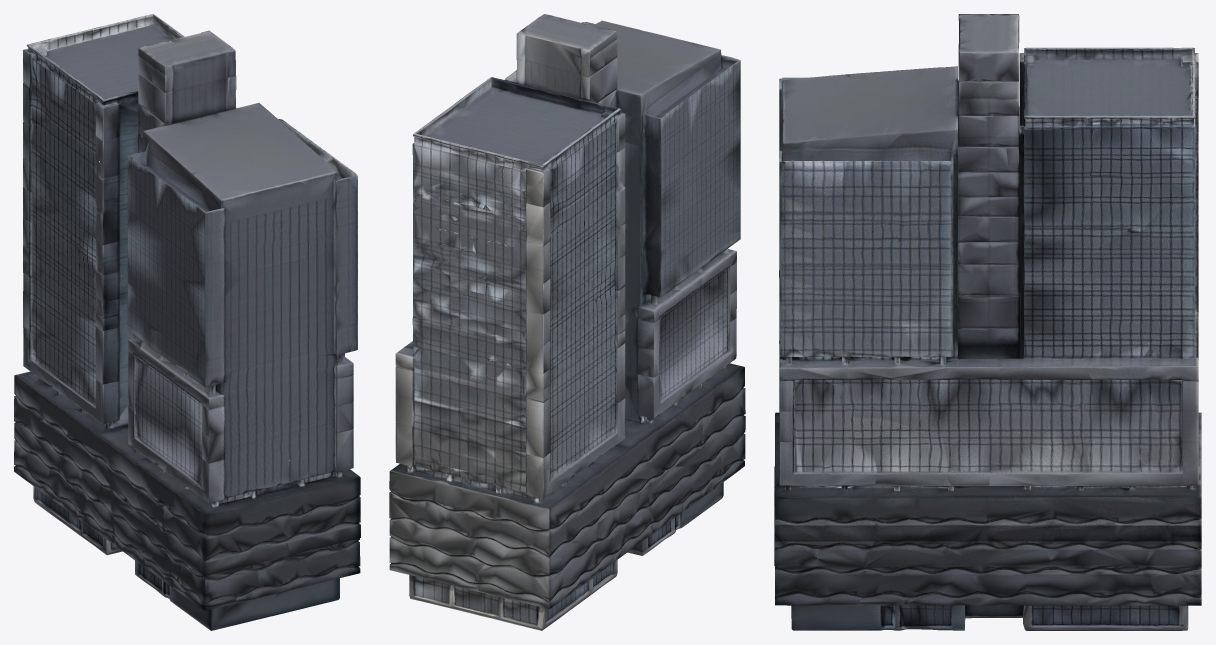
File: South_Point_Tower_opt.glb
The picture shows the model from 3 angles, left to right: view 1: azimuth 30°, elevation 25°; view 2: azimuth 150°, elevation 25°; view 3: azimuth 270°, elevation 25°; orthographic projection. The views are drawn at different scales.
Visible parts, largest first — view 1: tripo_node_eabb070e-0882-474d-a0a8-65028b67c79a; view 2: tripo_node_eabb070e-0882-474d-a0a8-65028b67c79a; view 3: tripo_node_eabb070e-0882-474d-a0a8-65028b67c79a.
Part boxes in pixels (box(x1,y1,x2,y2)): tripo_node_eabb070e-0882-474d-a0a8-65028b67c79a: box(14, 14, 360, 630); tripo_node_eabb070e-0882-474d-a0a8-65028b67c79a: box(389, 14, 745, 630); tripo_node_eabb070e-0882-474d-a0a8-65028b67c79a: box(774, 14, 1201, 630).
Bounding box in the file's own units: 0.3192 × 0.981 × 0.6749.
Materials: 1 (1 with a texture image).
